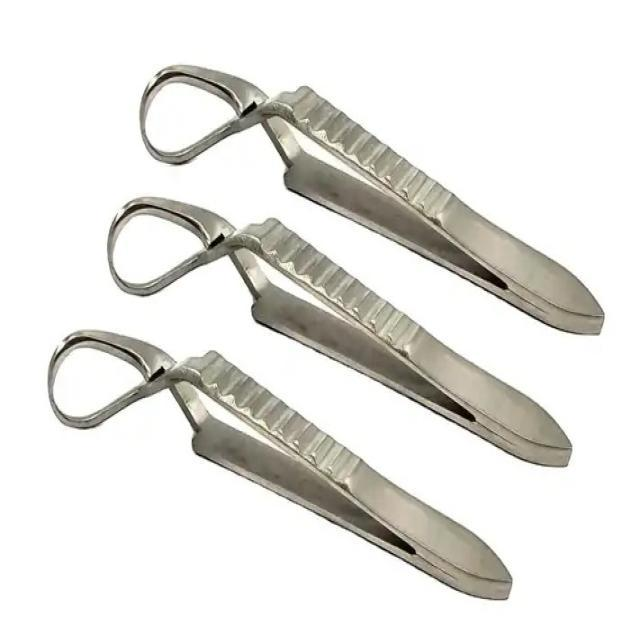Jones Towel Clamp: (100, 178, 578, 476), (44, 319, 517, 609), (138, 47, 608, 336)
